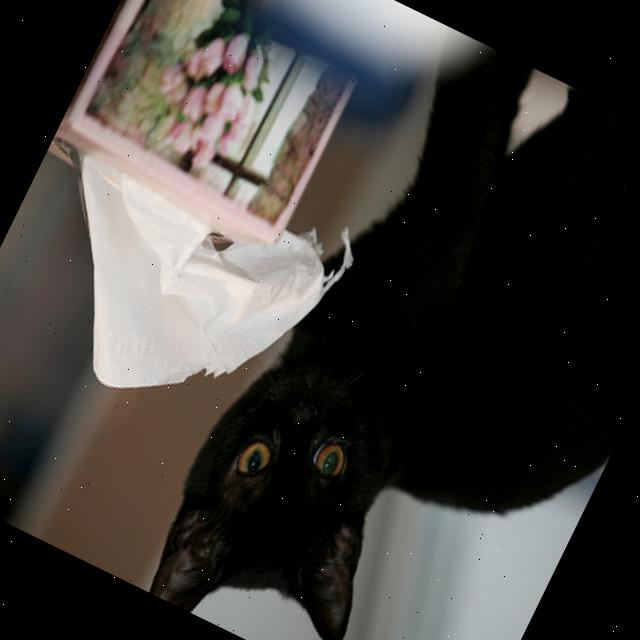cat-eye: (294, 426, 363, 501)
cat-eye-normal: (216, 412, 292, 502)
